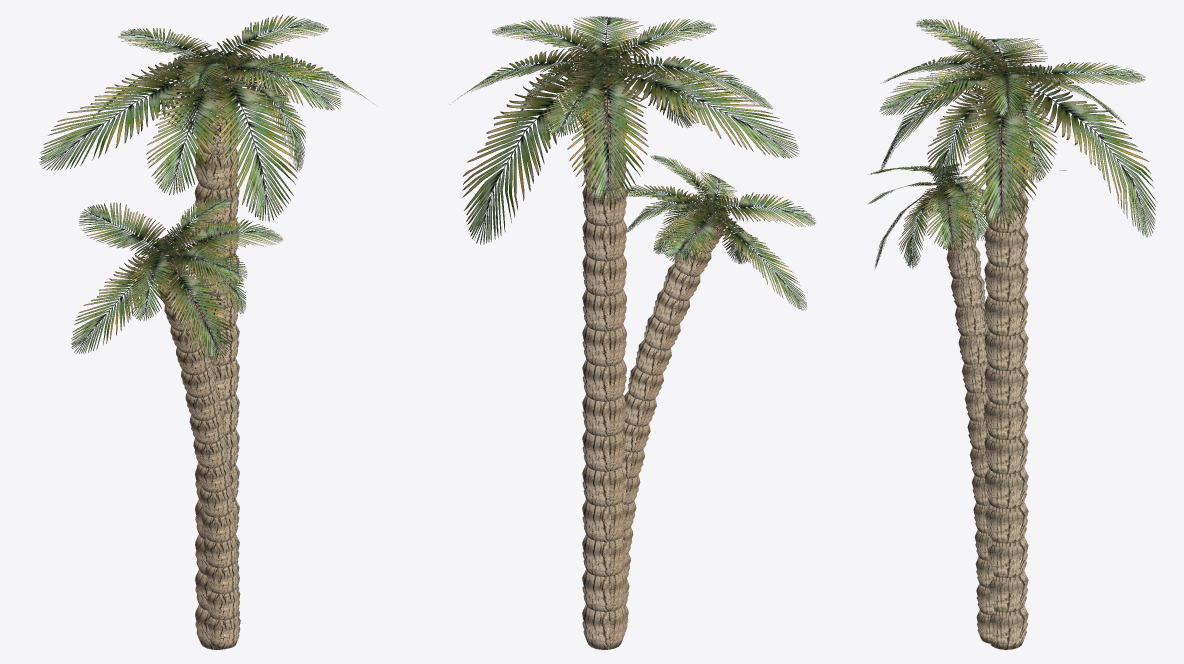
File: palm.obj
3 renders of one model, left to right at view 1: azimuth 30°, elevation 25°; view 2: azimuth 150°, elevation 25°; view 3: azimuth 270°, elevation 25°, orthographic.
Visible parts, largest first — view 1: palme; view 2: palme; view 3: palme.
Boxes of the visible parts, x1=… form: palme: x1=39, y1=15, x2=373, y2=649; palme: x1=452, y1=16, x2=815, y2=649; palme: x1=868, y1=19, x2=1155, y2=649.
Bounding box in the file's own units: 157 × 263 × 126.
Materials: 1 (1 with a texture image).
